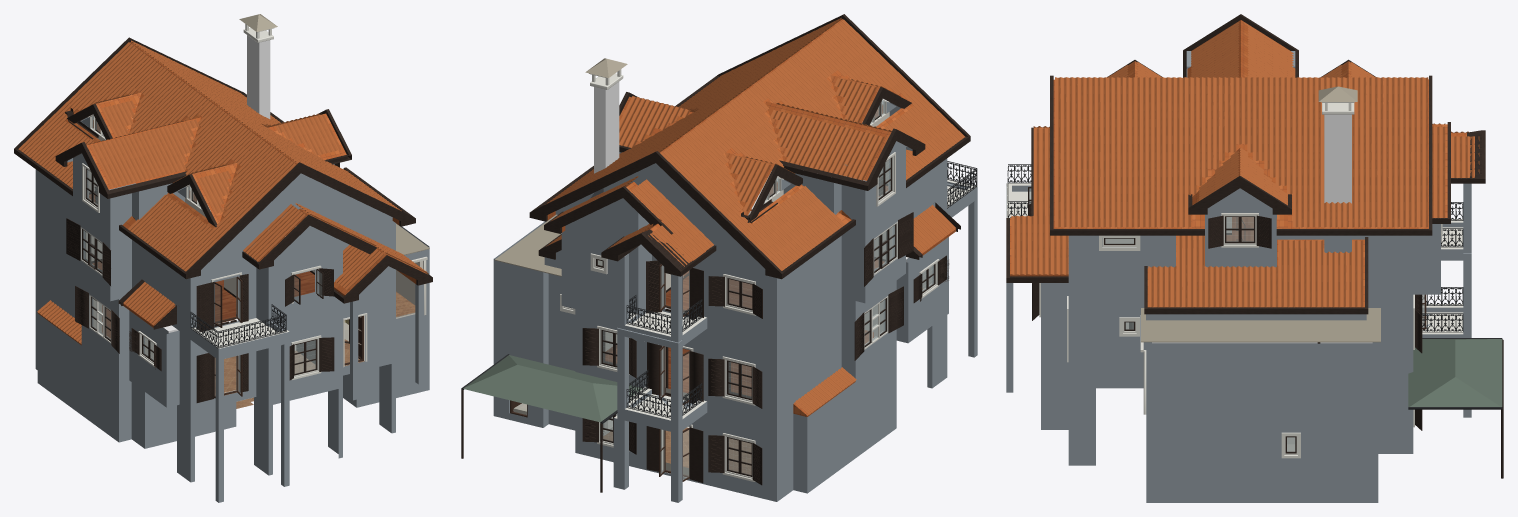
Rendered from BUILDING-2-opt-v11-DRACO.glb.
3 views of the same model, side by side, from view 1: azimuth 30°, elevation 25°; view 2: azimuth 150°, elevation 25°; view 3: azimuth 270°, elevation 25° (orthographic). The views are drawn at different scales.
Parts seen in each view (by area): view 1: stucco [imported], Clay tile 6 [imported], wood_dark (4), wood_dark.001, roof, white_trim (4), glass, ceiling [imported], metal, interior.001, terra_floor, wood_floor.001 (+3 smaller); view 2: stucco [imported], Clay tile 6 [imported], wood_dark.001, wood_dark (4), white_trim (4), canopy, roof, glass, metal, ceiling [imported], gravel [imported], wood_floor.001 (+4 smaller); view 3: stucco [imported], Clay tile 6 [imported], wood_dark (4), gravel [imported], canopy, white_trim (4), roof, ceiling [imported], wood_dark.001, metal, glass.
Part boxes in pixels (x1,y1,x2,y2): stucco [imported]: (35, 117, 429, 502); Clay tile 6 [imported]: (18, 40, 428, 343); wood_dark (4): (14, 37, 432, 343); wood_dark.001: (65, 108, 349, 402); roof: (37, 42, 427, 345); white_trim (4): (80, 24, 427, 379); glass: (83, 116, 321, 373); ceiling [imported]: (93, 35, 270, 332); metal: (190, 304, 286, 348); interior.001: (86, 115, 422, 401); terra_floor: (215, 291, 415, 408); wood_floor.001: (89, 120, 314, 338); stucco [imported]: (493, 101, 977, 502); Clay tile 6 [imported]: (544, 17, 965, 414); wood_dark.001: (570, 103, 949, 485); wood_dark (4): (461, 14, 970, 492); white_trim (4): (560, 69, 977, 481); canopy: (463, 355, 641, 422); roof: (547, 19, 955, 416); glass: (597, 100, 933, 474); metal: (626, 161, 977, 418); ceiling [imported]: (594, 81, 908, 309); gravel [imported]: (495, 58, 627, 276); wood_floor.001: (605, 105, 887, 395); stucco [imported]: (1006, 51, 1471, 502); Clay tile 6 [imported]: (1011, 22, 1479, 307); wood_dark (4): (1006, 14, 1503, 478); gravel [imported]: (1141, 86, 1380, 342); canopy: (1408, 339, 1502, 406); white_trim (4): (1006, 102, 1463, 458); roof: (1010, 20, 1466, 307); ceiling [imported]: (1152, 114, 1372, 343); wood_dark.001: (1028, 187, 1422, 453); metal: (1007, 164, 1463, 332); glass: (1029, 188, 1295, 451).
Bounding box in the file's own units: 14.28 × 14.92 × 18.02.
Materials: 30 (21 with a texture image).
